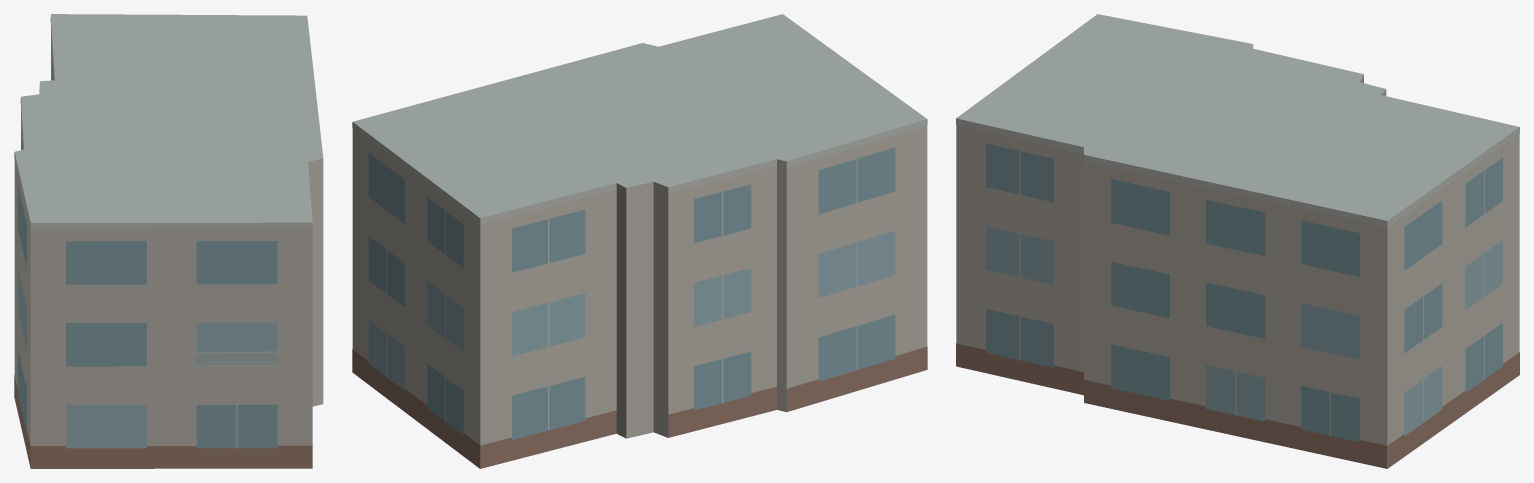
Rendered from survey-upis-32675296.glb.
3 renders of one model, left to right at view 1: azimuth 30°, elevation 25°; view 2: azimuth 150°, elevation 25°; view 3: azimuth 270°, elevation 25°, orthographic.
Parts seen in each view (by area): view 1: survey-upis-32675296.tmp; view 2: survey-upis-32675296.tmp; view 3: survey-upis-32675296.tmp.
Part boxes in pixels (x1,y1,x2,y2): survey-upis-32675296.tmp: (14,14,323,468); survey-upis-32675296.tmp: (352,14,927,468); survey-upis-32675296.tmp: (956,14,1519,468).
Bounding box in the file's own units: 16.37 × 9.15 × 18.86.
